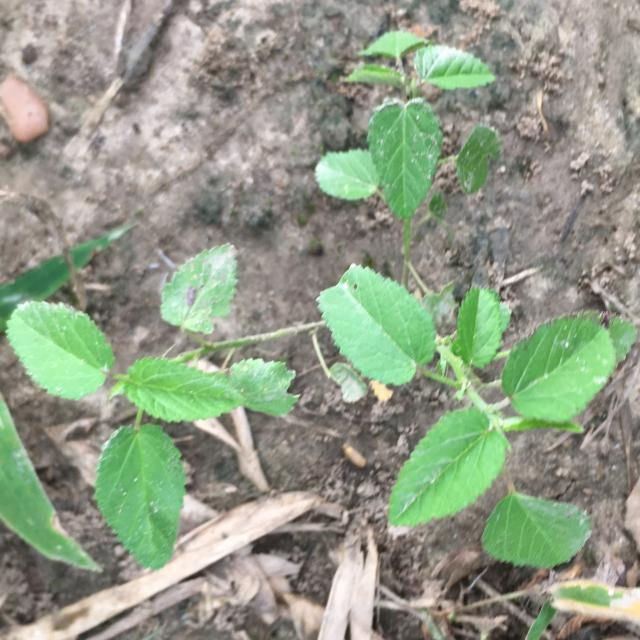PricklySida: (7, 30, 638, 570)
